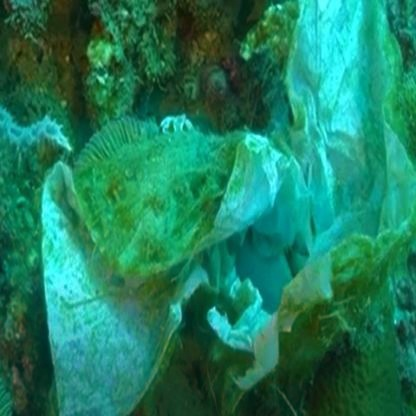plastic: (74, 106, 402, 351)
